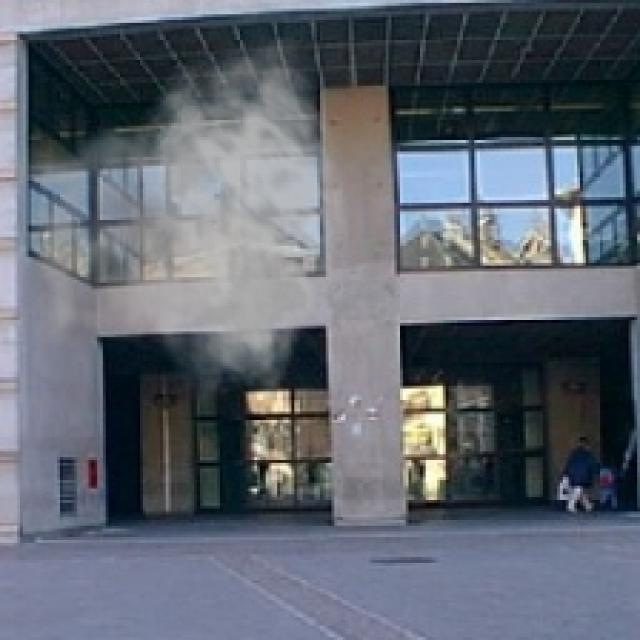Smoke: (2, 37, 352, 414)
